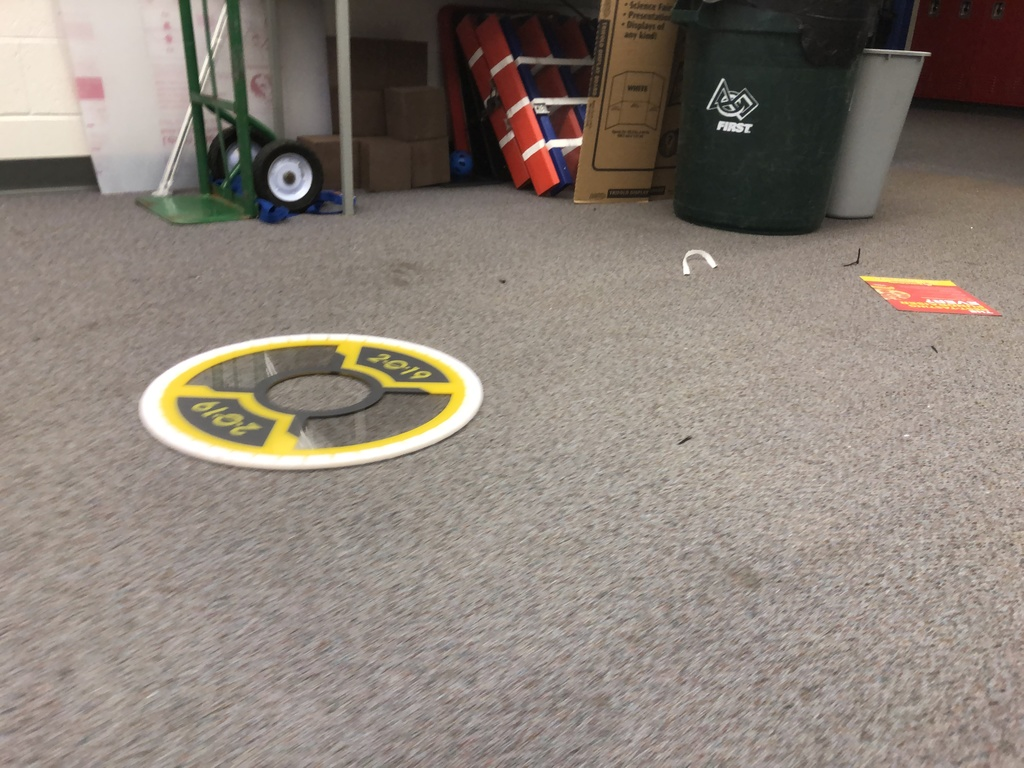hatch_panel: (130, 324, 505, 473)
